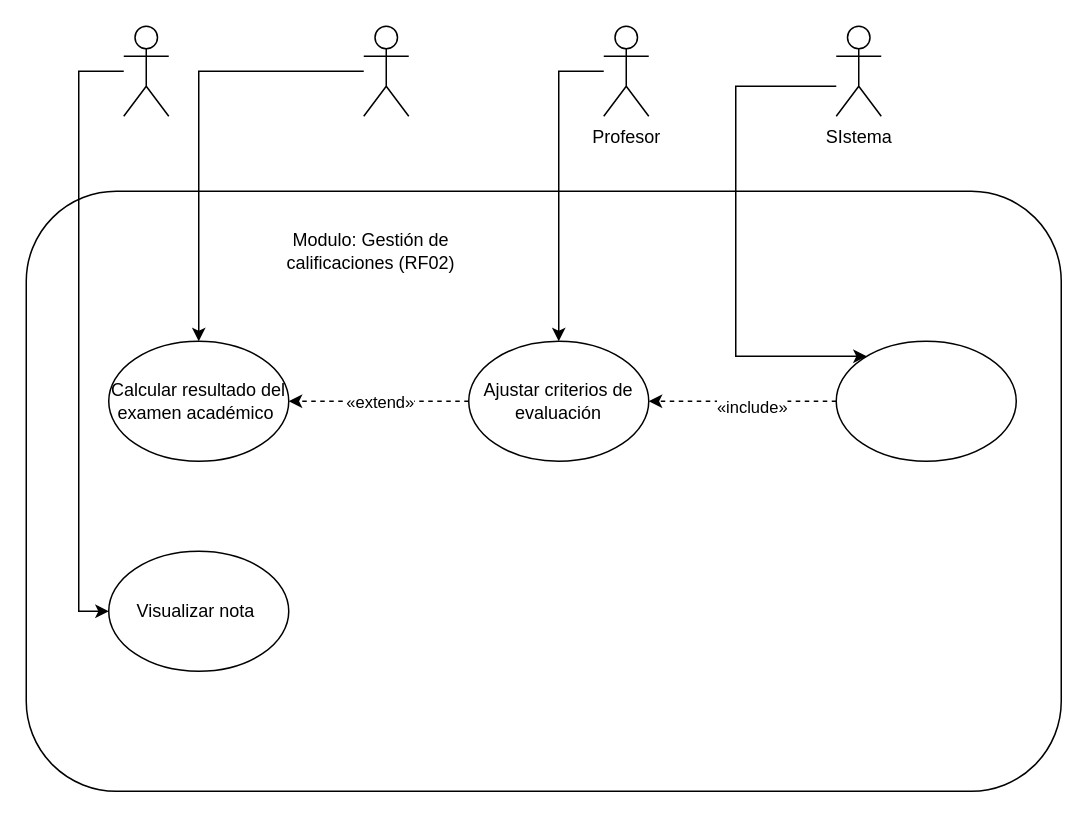
The diagram is 1088 pixels wide and 818 high, and some of its shapes have lost their labels. Here are the shapes that lost their labels. From the top down, the box of each, then its label:
(122, 25, 169, 116): Estudiante
(362, 25, 409, 116): Plataforma web
(835, 340, 1016, 461): Analizar Respuestas con IA
